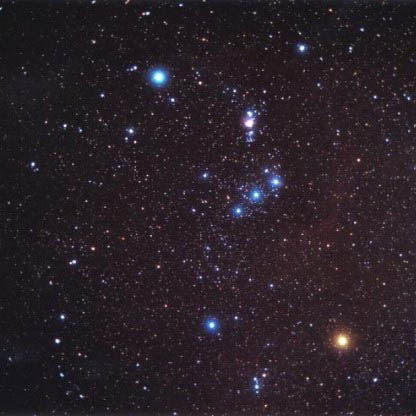Orion: (148, 63, 180, 98), (328, 325, 356, 355), (265, 167, 292, 198), (288, 41, 316, 63), (199, 312, 222, 335), (244, 183, 265, 207), (225, 200, 245, 222)
